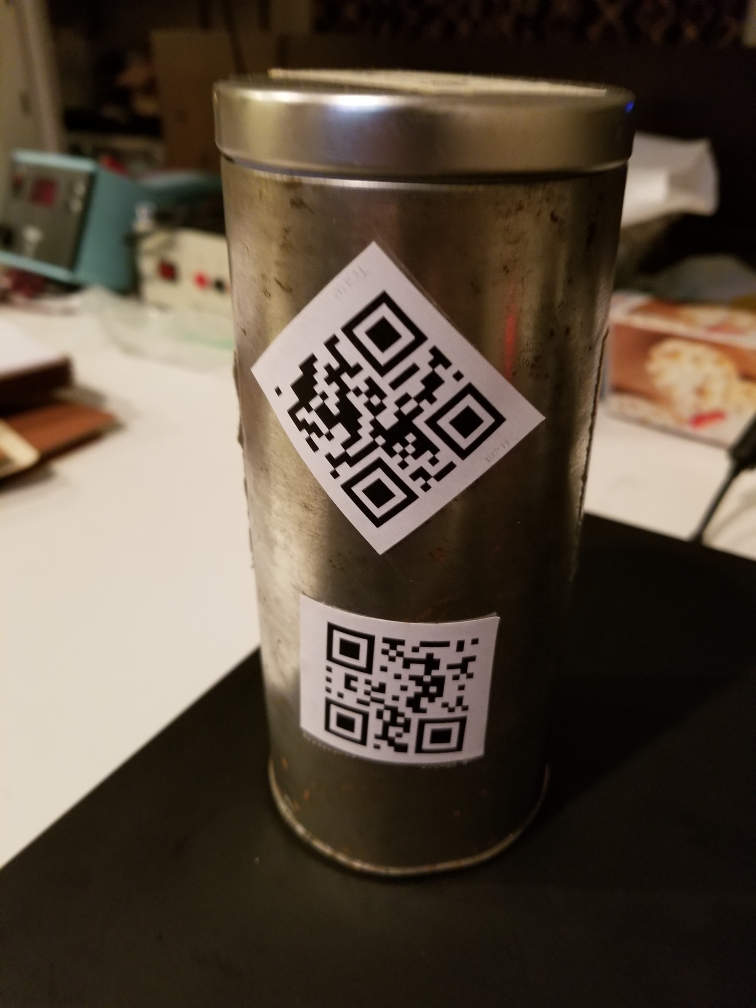QR_CODE: (259, 268, 518, 544), (308, 600, 494, 770)
